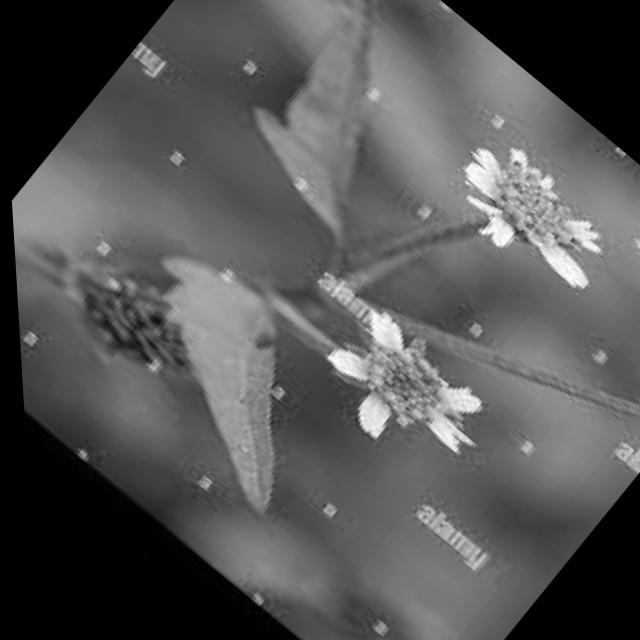Flower: (271, 269, 519, 497), (440, 136, 639, 315)
